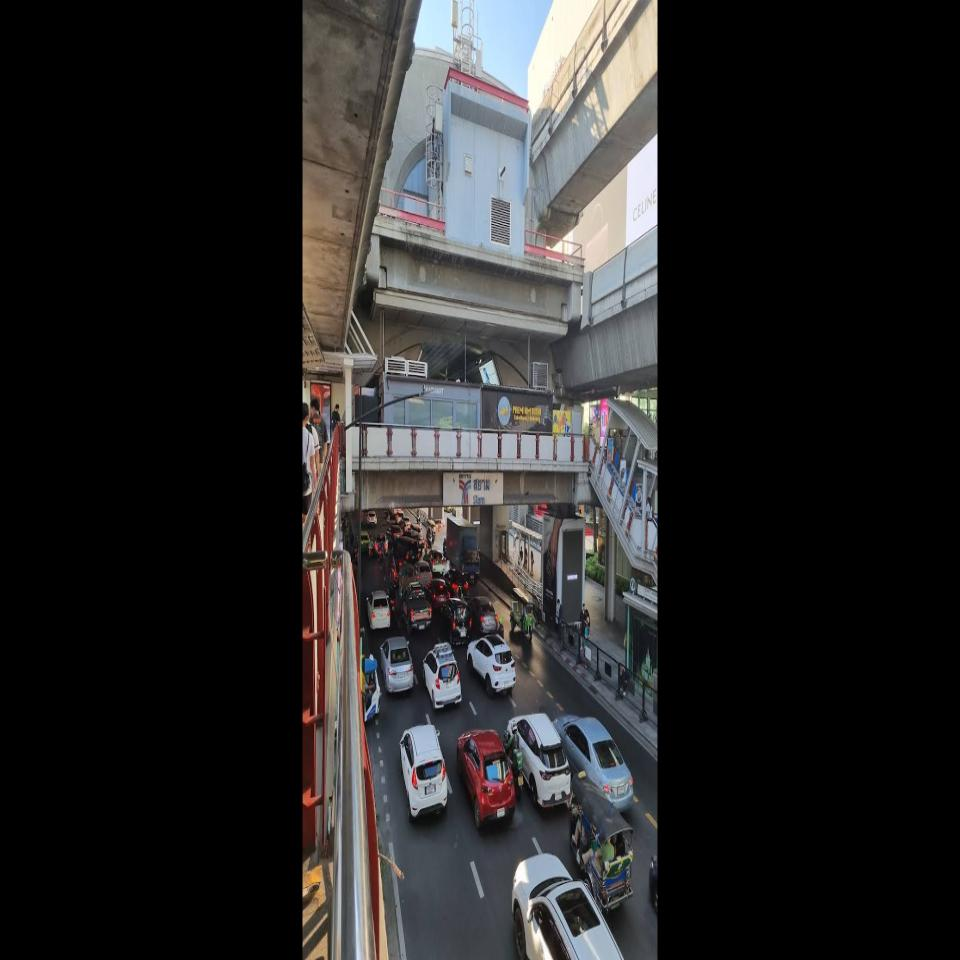Siam: (459, 474, 490, 506), (473, 478, 490, 506)
